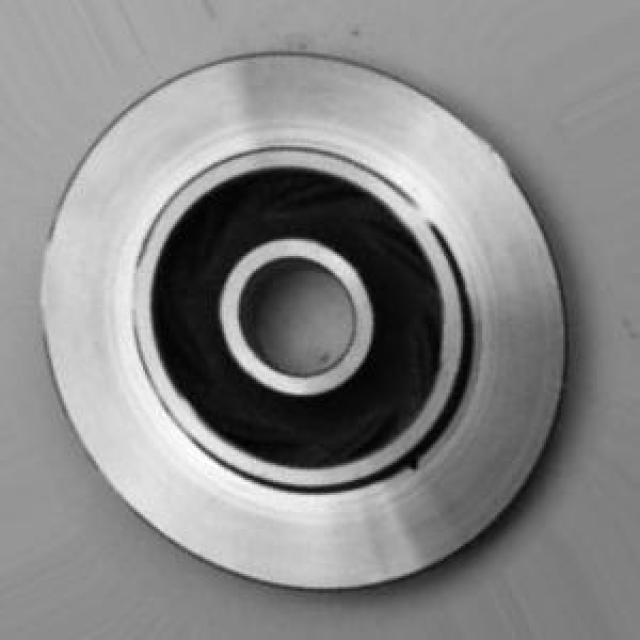Defect: (396, 451, 434, 485)
